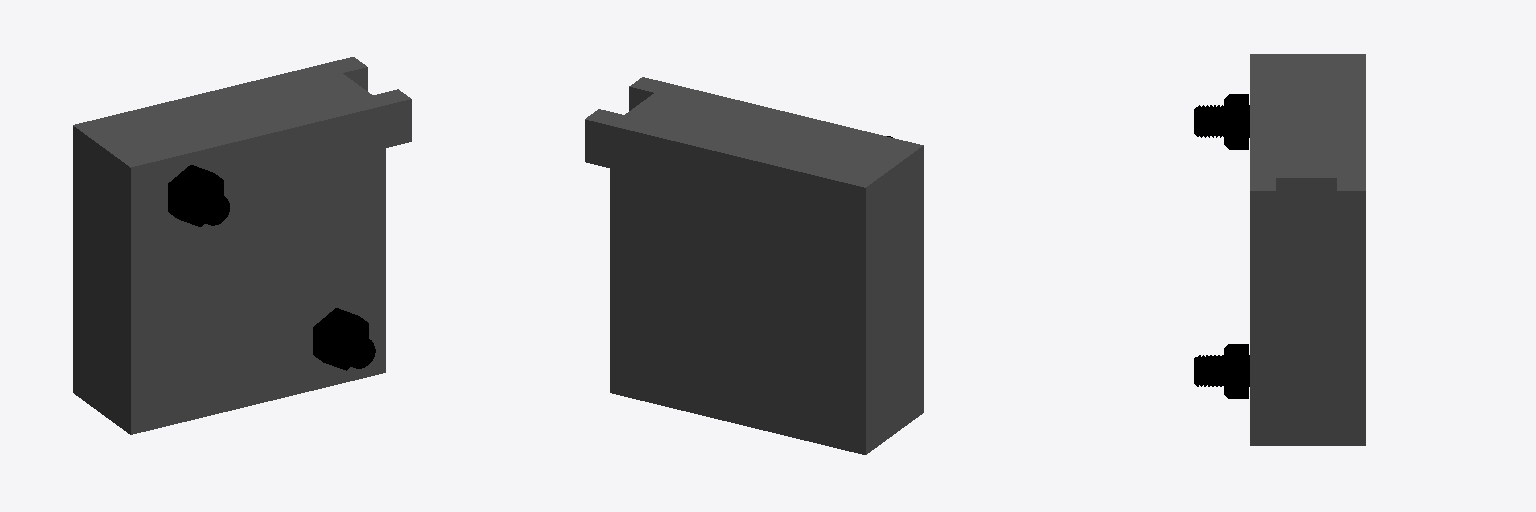
The model's file is штучка.obj.
3 renders of one model, left to right at view 1: azimuth 30°, elevation 25°; view 2: azimuth 150°, elevation 25°; view 3: azimuth 270°, elevation 25°, orthographic.
Visible parts, largest first — view 1: Куб, Цилиндр.001, Цилиндр.002, Bolt.002, Bolt.001; view 2: Куб; view 3: Куб, Цилиндр.002, Цилиндр.001, Bolt.001, Bolt.002.
Boxes of the visible parts, x1=… form: Куб: x1=73, y1=57, x2=411, y2=434; Цилиндр.001: x1=313, y1=308, x2=368, y2=370; Цилиндр.002: x1=168, y1=165, x2=223, y2=226; Bolt.002: x1=335, y1=329, x2=375, y2=368; Bolt.001: x1=190, y1=186, x2=229, y2=225; Куб: x1=585, y1=77, x2=923, y2=454; Куб: x1=1250, y1=54, x2=1365, y2=445; Цилиндр.002: x1=1224, y1=94, x2=1248, y2=149; Цилиндр.001: x1=1224, y1=344, x2=1248, y2=398; Bolt.001: x1=1194, y1=105, x2=1249, y2=137; Bolt.002: x1=1194, y1=355, x2=1249, y2=386.
Size of the model in its own units: 1.1 by 1 by 0.5808.